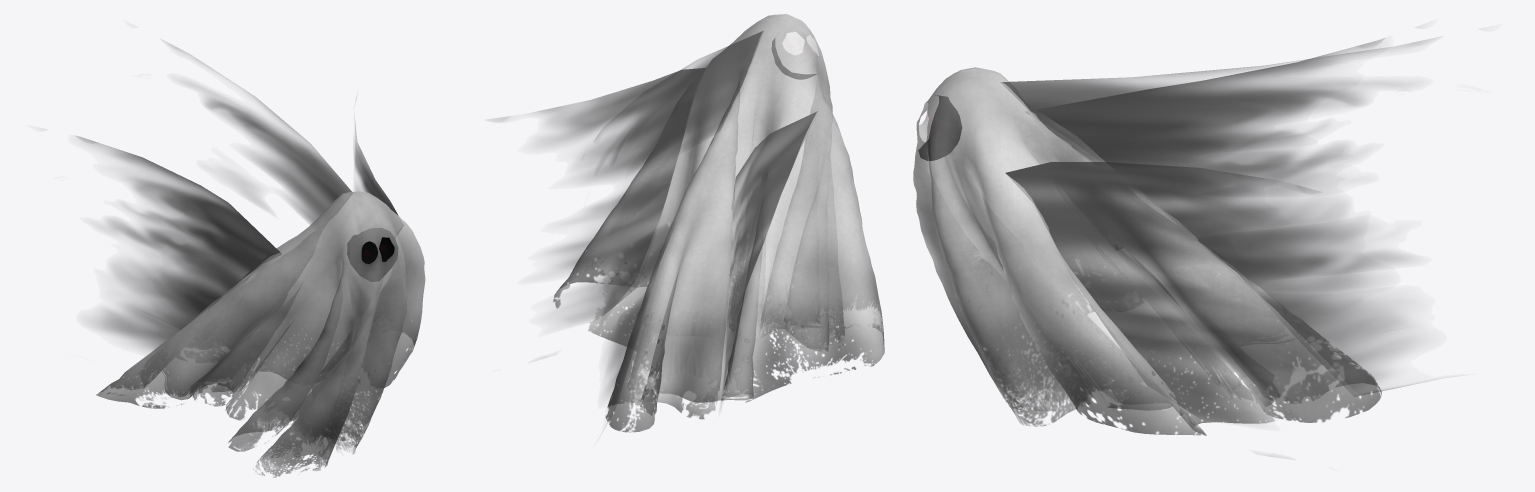
Rendered from boo_halloween2019.glb.
The picture shows the model from 3 angles, left to right: view 1: azimuth 30°, elevation 25°; view 2: azimuth 150°, elevation 25°; view 3: azimuth 270°, elevation 25°; orthographic projection. The views are drawn at different scales.
Visible parts, largest first — view 1: Object_3, Object_5, Object_2; view 2: Object_3, Object_5; view 3: Object_3, Object_5, Object_2.
Boxes of the visible parts, <box> form: Object_3: <box>96,191,425,477</box>; Object_5: <box>76,43,403,351</box>; Object_2: <box>347,228,398,281</box>; Object_3: <box>553,14,884,432</box>; Object_5: <box>496,30,818,423</box>; Object_3: <box>913,67,1381,435</box>; Object_5: <box>1000,38,1429,420</box>; Object_2: <box>918,95,961,160</box>.
Size of the model in its own units: 0.7975 by 0.7069 by 1.01.
4 materials, 2 textured.
